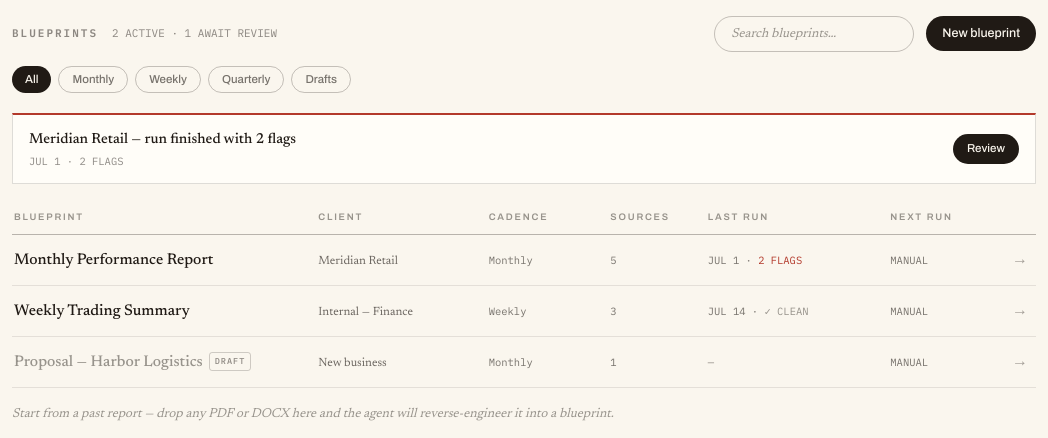
Test: LibraryView › filters the ledger by search text across name and client
Step 1. Type "harbor" into the field labelled "Search blueprints" → (814, 34), box [714,16,914,52]
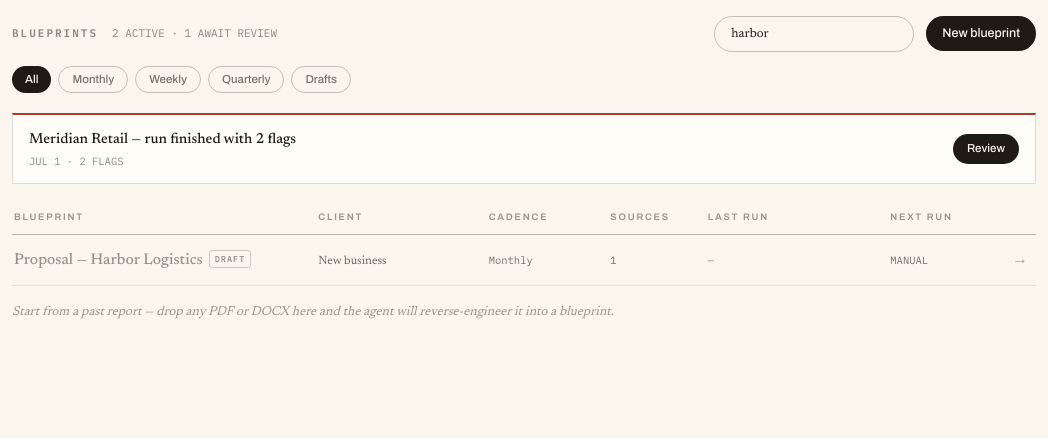
expect the text "Proposal — Harbor Logistics" is shown: met, box [14,252,203,268]
expect the link "Monthly Performance Report" is gone: met
